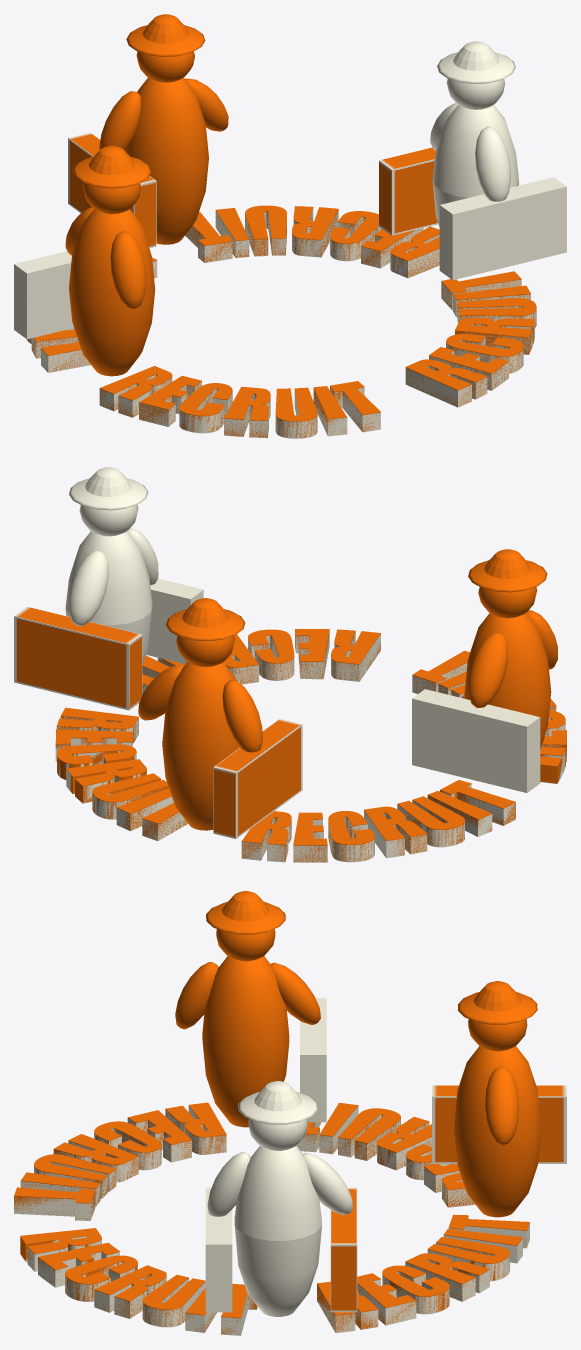
File: RecruitIcon.DAE
The picture shows the model from 3 angles, top to bottom: view 1: azimuth 30°, elevation 25°; view 2: azimuth 150°, elevation 25°; view 3: azimuth 270°, elevation 25°; orthographic projection. The views are drawn at different scales.
Parts seen in each view (by area): view 1: agentloop, civloop, Agent01, Agent002, CivBox01, civbodyup, AgentBox1, CivBox02, AgentBox2, civhat; view 2: agentloop, Agent002, civloop, Agent01, AgentBox1, CivBox02, civbodyup, AgentBox2, CivBox01, civhat, civbodydown; view 3: agentloop, civloop, Agent01, Agent002, civbodyup, civbodydown, AgentBox2, CivBox02, CivBox01, AgentBox1, civhat.
Boxes of the visible parts, <box> form: agentloop: <box>27,205,536,438</box>; civloop: <box>26,208,536,438</box>; Agent01: <box>65,145,155,376</box>; Agent002: <box>99,14,228,244</box>; CivBox01: <box>439,177,566,280</box>; civbodyup: <box>430,78,518,201</box>; AgentBox1: <box>14,251,73,339</box>; CivBox02: <box>379,147,437,235</box>; AgentBox2: <box>68,132,156,248</box>; civhat: <box>437,41,515,83</box>; agentloop: <box>55,629,566,862</box>; Agent002: <box>138,598,262,830</box>; civloop: <box>55,631,566,862</box>; Agent01: <box>464,549,557,749</box>; AgentBox1: <box>412,689,540,792</box>; CivBox02: <box>14,606,142,710</box>; civbodyup: <box>65,504,158,625</box>; AgentBox2: <box>213,718,302,838</box>; CivBox01: <box>146,578,203,664</box>; civhat: <box>69,467,148,510</box>; civbodydown: <box>65,606,152,664</box>; agentloop: <box>14,1102,529,1334</box>; civloop: <box>14,1106,529,1335</box>; Agent01: <box>175,891,320,1127</box>; Agent002: <box>454,981,541,1217</box>; civbodyup: <box>207,1119,353,1240</box>; civbodydown: <box>235,1226,321,1316</box>; AgentBox2: <box>432,1085,566,1163</box>; CivBox02: <box>330,1187,357,1312</box>; CivBox01: <box>205,1187,232,1312</box>; AgentBox1: <box>300,998,326,1122</box>; civhat: <box>238,1081,317,1124</box>.
Bounding box in the file's own units: 3418 × 1564 × 3235.
